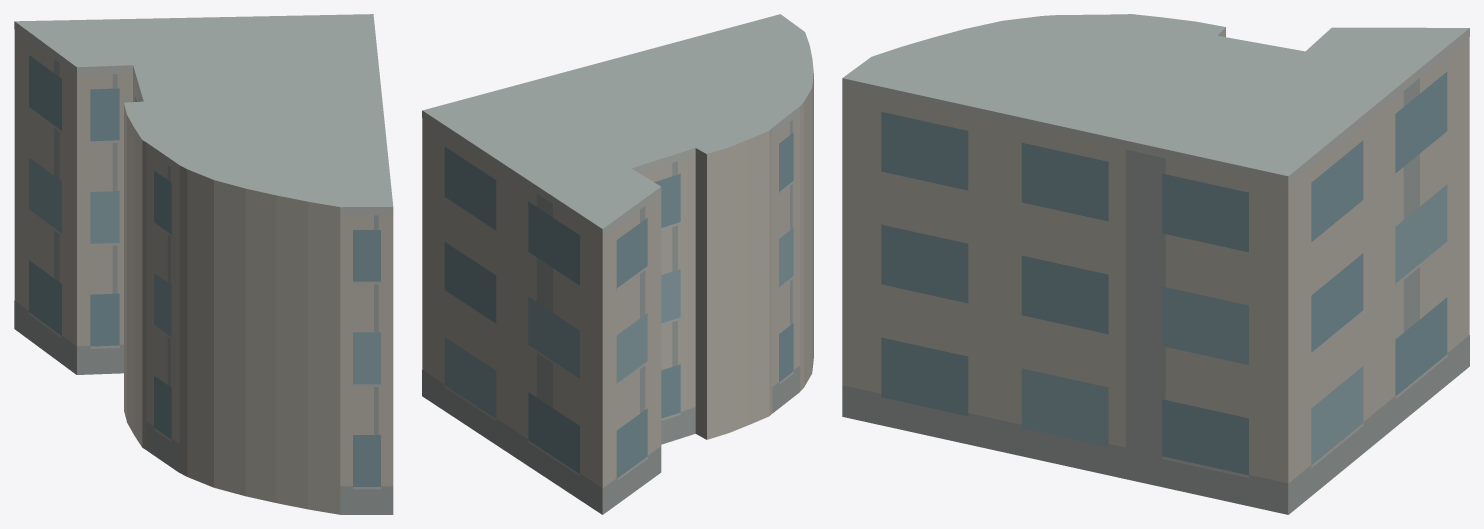
The model's file is survey-upis-32644086.glb.
3 views of the same model, side by side, from view 1: azimuth 30°, elevation 25°; view 2: azimuth 150°, elevation 25°; view 3: azimuth 270°, elevation 25° (orthographic). The views are drawn at different scales.
Visible parts, largest first — view 1: survey-upis-32644086.tmp; view 2: survey-upis-32644086.tmp; view 3: survey-upis-32644086.tmp.
Part boxes in pixels (<box>): survey-upis-32644086.tmp: <box>14,14,393,514</box>; survey-upis-32644086.tmp: <box>422,14,813,514</box>; survey-upis-32644086.tmp: <box>842,14,1469,514</box>.
Bounding box in the file's own units: 9.42 × 9.15 × 15.38.
